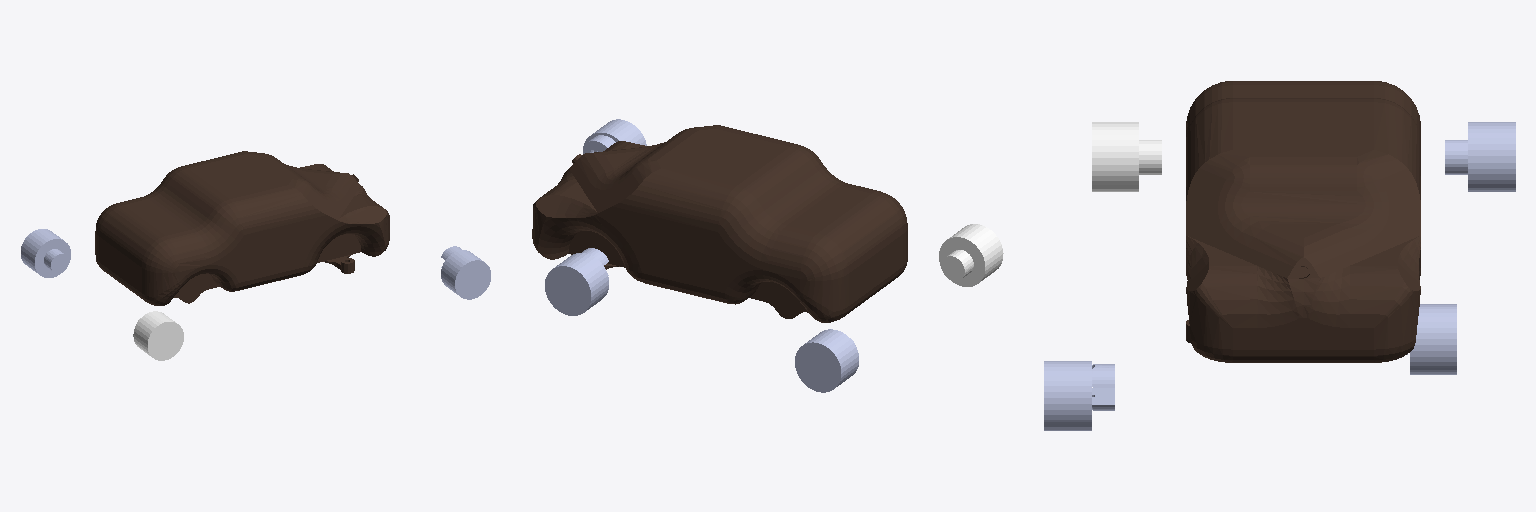
URDF robot description (car_urdf):
<?xml version="1.0" encoding="utf-8"?>
<!-- This URDF was automatically created by SolidWorks to URDF Exporter! Originally created by [author] ([email redacted]) 
     Commit Version: 1.6.0-4-g7f85cfe  Build Version: 1.6.7995.38578
     For more information, please see http://wiki.ros.org/sw_urdf_exporter -->
<robot
  name="car_urdf">
  
  
  <link name="world"/>
  <joint name="base_joint" type="fixed">
  	<parent link="world"/>
  	<child link="base_link"/>
  	<origin rpy="0 0 0" xyz="0.0 0.0 0.17"/>
  </joint>
  
  
  
  
  
  
  <link
    name="base_link">
    <inertial>
      <origin
        xyz="0.0026780293823337 -8.36143291757518E-08 0.0290503422675615"
        rpy="0 0 0" />
      <mass
        value="7.27297177380424" />
      <inertia
        ixx="0.00718750082613249"
        ixy="2.93108378932942E-08"
        ixz="0.000183481880866288"
        iyy="0.0213063434769695"
        iyz="3.17408145828072E-09"
        izz="0.024330713862357" />
    </inertial>
    <visual>
      <origin
        xyz="0 0 0"
        rpy="0 0 0" />
      <geometry>
        <mesh
          filename="package://car_urdf/meshes/base_link.STL" />
      </geometry>
      <material
        name="">
        <color
          rgba="0.317647058823529 0.247058823529412 0.207843137254902 1" />
      </material>
    </visual>
    <collision>
      <origin
        xyz="0 0 0"
        rpy="0 0 0" />
      <geometry>
        <mesh
          filename="package://car_urdf/meshes/base_link.STL" />
      </geometry>
    </collision>
  </link>
  
  
  
  
  
  
  
  
  <link
    name="fl_pin">
    <inertial>
      <origin
        xyz="0 0 0"
        rpy="0 0 0" />
      <mass
        value="0.0023308440408083" />
      <inertia
        ixx="1.46454208894841E-07"
        ixy="-6.18313709918053E-17"
        ixz="9.89467996740187E-15"
        iyy="1.47741105823912E-07"
        iyz="-3.48879471398126E-15"
        izz="9.49179293760492E-08" />
    </inertial>
    <visual>
      <origin
        xyz="0 0 0"
        rpy="0 0 0" />
      <geometry>
        <mesh
          filename="package://car_urdf/meshes/fl_pin.STL" />
      </geometry>
      <material
        name="">
        <color
          rgba="0.792156862745098 0.819607843137255 0.933333333333333 1" />
      </material>
    </visual>
    <collision>
      <origin
        xyz="0 0 0"
        rpy="0 0 0" />
      <geometry>
        <mesh
          filename="package://car_urdf/meshes/fl_pin.STL" />
      </geometry>
    </collision>
  </link>
  <joint
    name="fl_pin_j"
    type="revolute">
    <origin
      xyz="0 0 0"
      rpy="0 0 0" />
    <parent
      link="base_link" />
    <child
      link="fl_pin" />
    <axis
      xyz="0 0 -1" />
    <limit
      lower="-0.6"
      upper="0.6"
      effort="0"
      velocity="0" />
  </joint>
  <link
    name="fl_wheel">
    <inertial>
      <origin
        xyz="1.3878E-17 0.0014286 0"
        rpy="0 0 0" />
      <mass
        value="0.010996" />
      <inertia
        ixx="1.0608E-06"
        ixy="2.9156E-23"
        ixz="-1.1484E-22"
        iyy="1.4334E-06"
        iyz="-3.7952E-24"
        izz="1.0608E-06" />
    </inertial>
    <visual>
      <origin
        xyz="0 0 0"
        rpy="0 0 0" />
      <geometry>
        <mesh
          filename="package://car_urdf/meshes/fl_wheel.STL" />
      </geometry>
      <material
        name="">
        <color
          rgba="0.79216 0.81961 0.93333 1" />
      </material>
    </visual>
    <collision>
      <origin
        xyz="0 0 0"
        rpy="0 0 0" />
      <geometry>
        <mesh
          filename="package://car_urdf/meshes/fl_wheel.STL" />
      </geometry>
    </collision>
  </link>
  <joint
    name="fl_wheeel_j"
    type="continuous">
    <origin
      xyz="0 0.005 -0.004"
      rpy="0 0 0" />
    <parent
      link="fl_pin" />
    <child
      link="fl_wheel" />
    <axis
      xyz="0 1 0" />
    <limit
      lower="0"
      upper="0"
      effort="0"
      velocity="0" />
  </joint>
  <link
    name="fr_pin">
    <inertial>
      <origin
        xyz="1.00167027450304E-11 0.00242832295403607 -0.00399999920262951"
        rpy="0 0 0" />
      <mass
        value="0.0023308440408083" />
      <inertia
        ixx="1.46454208894841E-07"
        ixy="6.18313535787126E-17"
        ixz="-9.89467996779412E-15"
        iyy="1.47741105823912E-07"
        iyz="-3.488794709453E-15"
        izz="9.49179293760492E-08" />
    </inertial>
    <visual>
      <origin
        xyz="0 0 0"
        rpy="0 0 0" />
      <geometry>
        <mesh
          filename="package://car_urdf/meshes/fr_pin.STL" />
      </geometry>
      <material
        name="">
        <color
          rgba="0.792156862745098 0.819607843137255 0.933333333333333 1" />
      </material>
    </visual>
    <collision>
      <origin
        xyz="0 0 0"
        rpy="0 0 0" />
      <geometry>
        <mesh
          filename="package://car_urdf/meshes/fr_pin.STL" />
      </geometry>
    </collision>
  </link>
  <joint
    name="fr_pin_j"
    type="revolute">
    <origin
      xyz="0.065223 -0.045 0.004"
      rpy="0 0 0" />
    <parent
      link="base_link" />
    <child
      link="fr_pin" />
    <axis
      xyz="0 0 -1" />
    <limit
      lower="-0.6"
      upper="0.6"
      effort="0"
      velocity="0" />
  </joint>
  <link
    name="fr_wheel">
    <inertial>
      <origin
        xyz="-6.9389E-18 -0.0014286 0"
        rpy="0 0 0" />
      <mass
        value="0.010996" />
      <inertia
        ixx="1.0608E-06"
        ixy="8.2862E-23"
        ixz="1.3852E-22"
        iyy="1.4334E-06"
        iyz="-2.4914E-23"
        izz="1.0608E-06" />
    </inertial>
    <visual>
      <origin
        xyz="0 0 0"
        rpy="0 0 0" />
      <geometry>
        <mesh
          filename="package://car_urdf/meshes/fr_wheel.STL" />
      </geometry>
      <material
        name="">
        <color
          rgba="0.79216 0.81961 0.93333 1" />
      </material>
    </visual>
    <collision>
      <origin
        xyz="0 0 0"
        rpy="0 0 0" />
      <geometry>
        <mesh
          filename="package://car_urdf/meshes/fr_wheel.STL" />
      </geometry>
    </collision>
  </link>
  <joint
    name="fr_wheel_j"
    type="continuous">
    <origin
      xyz="0 -0.005 -0.004"
      rpy="0 0 0" />
    <parent
      link="fr_pin" />
    <child
      link="fr_wheel" />
    <axis
      xyz="0 -1 0" />
  </joint>
  <link
    name="rl_wheel">
    <inertial>
      <origin
        xyz="1.5821E-15 0.018333 5.6899E-16"
        rpy="0 0 0" />
      <mass
        value="0.015904" />
      <inertia
        ixx="1.6595E-06"
        ixy="-4.2486E-20"
        ixz="-5.2716E-23"
        iyy="1.6401E-06"
        iyz="-1.4995E-20"
        izz="1.6595E-06" />
    </inertial>
    <visual>
      <origin
        xyz="0 0 0"
        rpy="0 0 0" />
      <geometry>
        <mesh
          filename="package://car_urdf/meshes/rl_wheel.STL" />
      </geometry>
      <material
        name="">
        <color
          rgba="0.79216 0.81961 0.93333 1" />
      </material>
    </visual>
    <collision>
      <origin
        xyz="0 0 0"
        rpy="0 0 0" />
      <geometry>
        <mesh
          filename="package://car_urdf/meshes/rl_wheel.STL" />
      </geometry>
    </collision>
  </link>
  <joint
    name="rl_wheel_j"
    type="continuous">
    <origin
      xyz="-0.054777 0.03 0"
      rpy="0 0 0" />
    <parent
      link="base_link" />
    <child
      link="rl_wheel" />
    <axis
      xyz="0 -1 0" />
  </joint>
  <link
    name="rr_wheel">
    <inertial>
      <origin
        xyz="0 -0.018333 0"
        rpy="0 0 0" />
      <mass
        value="0" />
      <inertia
        ixx="0"
        ixy="0"
        ixz="0"
        iyy="0"
        iyz="0"
        izz="0" />
    </inertial>
    <visual>
      <origin
        xyz="0 0 0"
        rpy="0 0 0" />
      <geometry>
        <mesh
          filename="package://car_urdf/meshes/rr_wheel.STL" />
      </geometry>
      <material
        name="">
        <color
          rgba="1 1 1 1" />
      </material>
    </visual>
    <collision>
      <origin
        xyz="0 0 0"
        rpy="0 0 0" />
      <geometry>
        <mesh
          filename="package://car_urdf/meshes/rr_wheel.STL" />
      </geometry>
    </collision>
  </link>
  <joint
    name="rr_wheel_j"
    type="continuous">
    <origin
      xyz="-0.054777 -0.03 0"
      rpy="0 0 0" />
    <parent
      link="base_link" />
    <child
      link="rr_wheel" />
    <axis
      xyz="0 1 0" />
  </joint>
  
  
  
  
  
  
  
  
  
  
  <!-- Ackermann drive plugin -->
  <gazebo>
    <plugin name="gazebo_ros_ackermann_drive" filename="libgazebo_ros_ackermann_drive.so">
      <ros>
        <namespace>/</namespace>
        <remapping>cmd_vel:=cmd_vel</remapping>
        <remapping>odom:=odom</remapping>
        <remapping>distance:=distance</remapping>
      </ros>

      <update_rate>100.0</update_rate>

      <!-- Joint names -->
      <front_left_joint>fl_wheel_joint</front_left_joint>
      <front_right_joint>fr_wheel_joint</front_right_joint>
      <rear_left_joint>rl_wheel_joint</rear_left_joint>
      <rear_right_joint>rr_wheel_joint</rear_right_joint>
      <left_steering_joint>fl_steering_joint</left_steering_joint>
      <right_steering_joint>fr_steering_joint</right_steering_joint>

      <!-- Limits -->
      <max_steer>0.6</max_steer>
      <max_speed>20</max_speed>

      <!-- PID Controllers -->
      <left_steering_pid_gain>1500 0 1</left_steering_pid_gain>
      <right_steering_pid_gain>1500 0 1</right_steering_pid_gain>
      <linear_velocity_pid_gain>1000 0 1</linear_velocity_pid_gain>

      <!-- Publishing options -->
      <publish_odom>true</publish_odom>
      <publish_odom_tf>true</publish_odom_tf>
      <publish_wheel_tf>true</publish_wheel_tf>
      <publish_distance>true</publish_distance>

      <odometry_frame>odom</odometry_frame>
      <robot_base_frame>base_link</robot_base_frame>
    </plugin>
    
    
    
  </gazebo>

  <!-- Material colors for Gazebo -->
  <gazebo reference="base_link">
    <material>Gazebo/Brown</material>
  </gazebo>

  <gazebo reference="fl_pin">
    <material>Gazebo/Gray</material>
  </gazebo>

  <gazebo reference="fr_pin">
    <material>Gazebo/Gray</material>
  </gazebo>

  <gazebo reference="fl_wheel">
    <material>Gazebo/Gray</material>
  </gazebo>

  <gazebo reference="fr_wheel">
    <material>Gazebo/Gray</material>
  </gazebo>

  <gazebo reference="rl_wheel">
    <material>Gazebo/Gray</material>
  </gazebo>

  <gazebo reference="rr_wheel">
    <material>Gazebo/Gray</material>
  </gazebo>
  
  
  
  
</robot>

--- Facts derived from the render (not from the file) ---
Views: 3 orthographic renders of the robot side by side, from view 1: azimuth 30°, elevation 25°; view 2: azimuth 150°, elevation 25°; view 3: azimuth 270°, elevation 25°.
Model car_urdf with 8 links and 7 joints (2 revolute, 4 continuous, 1 fixed), rooted at world, posed all joints at 0.
Visible links, largest first — view 1: base_link, rr_wheel, rl_wheel, fr_wheel; view 2: base_link, rl_wheel, rr_wheel, fl_wheel, fr_wheel; view 3: base_link, rl_wheel, rr_wheel, fr_wheel, fl_wheel, fr_pin.
Boxes of the visible links, x1,y1,x2,y2 form: base_link: (95,151,389,305); rr_wheel: (133,311,183,360); rl_wheel: (21,229,70,277); fr_wheel: (441,250,490,299); base_link: (532,125,907,322); rl_wheel: (795,329,858,392); rr_wheel: (939,224,1003,286); fl_wheel: (545,253,608,315); fr_wheel: (583,119,646,153); base_link: (1186,81,1420,362); rl_wheel: (1445,122,1515,191); rr_wheel: (1092,122,1161,191); fr_wheel: (1044,361,1091,430); fl_wheel: (1410,304,1456,374); fr_pin: (1092,364,1114,410).
Bounding box of the posed robot: 0.27 × 0.2 × 0.0855 m (x, y, z).
Meshes: 7 distinct files referenced, 7 mesh visuals loaded (7 binary STL).
